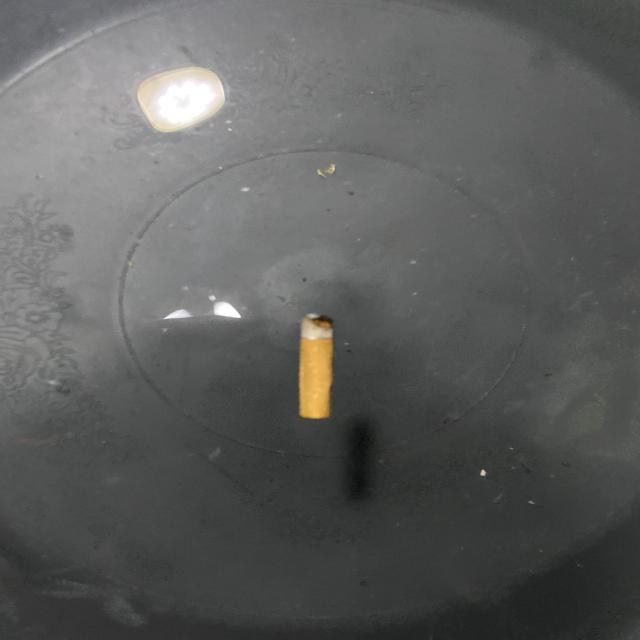Cigarette Filter: (284, 303, 344, 439)
